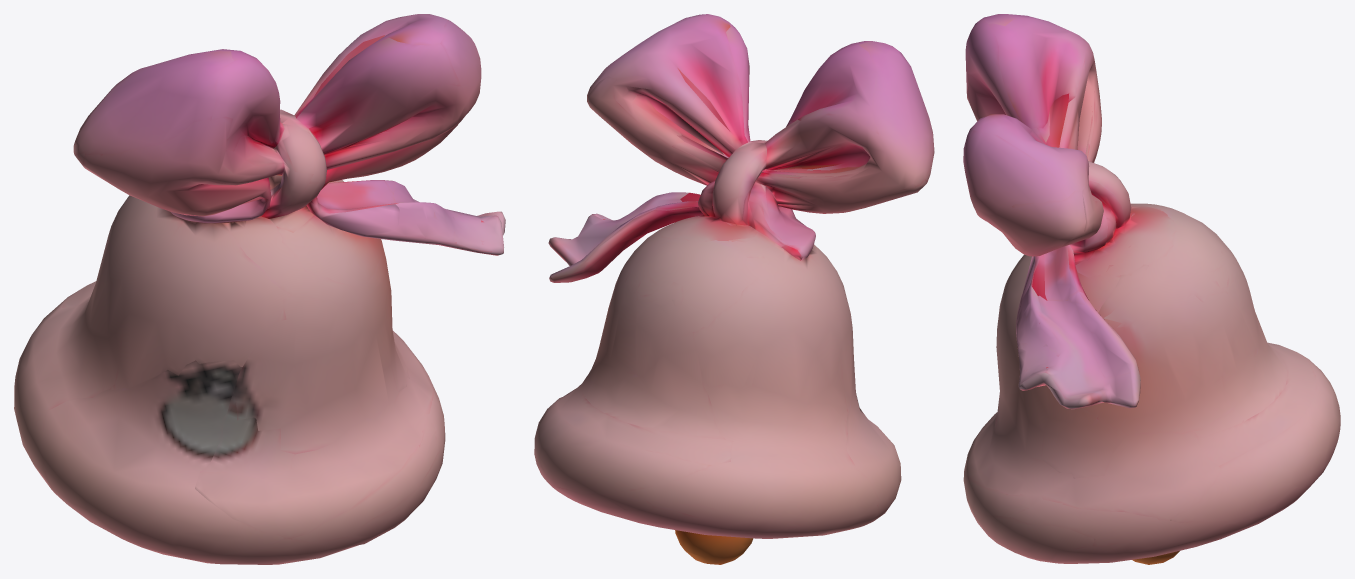
The model's file is wings_of_freedom-bell-3055.glb.
The picture shows the model from 3 angles, left to right: view 1: azimuth 30°, elevation 25°; view 2: azimuth 150°, elevation 25°; view 3: azimuth 270°, elevation 25°; orthographic projection. The views are drawn at different scales.
Parts seen in each view (by area): view 1: texture_pbr_v128; view 2: texture_pbr_v128; view 3: texture_pbr_v128.
Part boxes in pixels (x1,y1,x2,y2): texture_pbr_v128: (14,14,505,564); texture_pbr_v128: (534,14,934,564); texture_pbr_v128: (963,14,1340,564).
Size of the model in its own units: 0.7671 by 0.9603 by 0.6587.
1 material, 1 textured.
